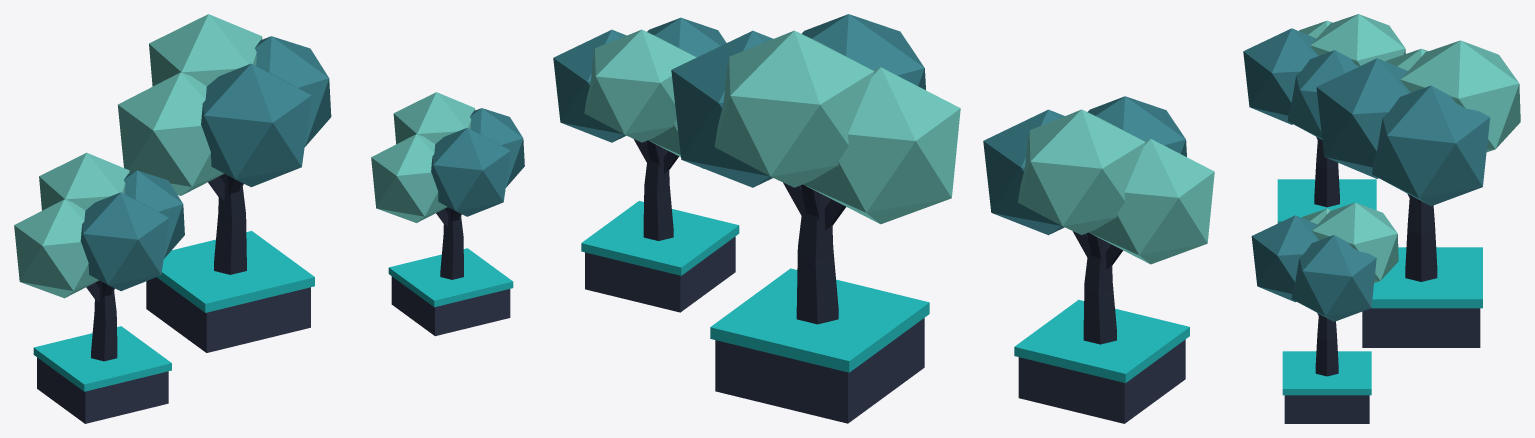
File: Neon_CyberGarden_Simple.glb
3 renders of one model, left to right at view 1: azimuth 30°, elevation 25°; view 2: azimuth 150°, elevation 25°; view 3: azimuth 270°, elevation 25°, orthographic. The views are drawn at different scales.
Parts seen in each view (by area): view 1: Neon_CyberGarden_Simple; view 2: Neon_CyberGarden_Simple; view 3: Neon_CyberGarden_Simple.
Part boxes in pixels (x1,y1,x2,y2): Neon_CyberGarden_Simple: (14,14,524,423); Neon_CyberGarden_Simple: (553,14,1214,423); Neon_CyberGarden_Simple: (1243,14,1520,423).
Bounding box in the file's own units: 7.24 × 3.98 × 3.54.
